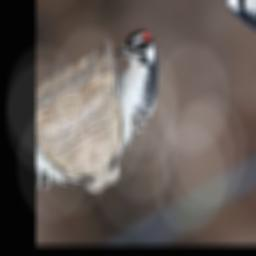Woodpecker: (64, 23, 193, 176)
